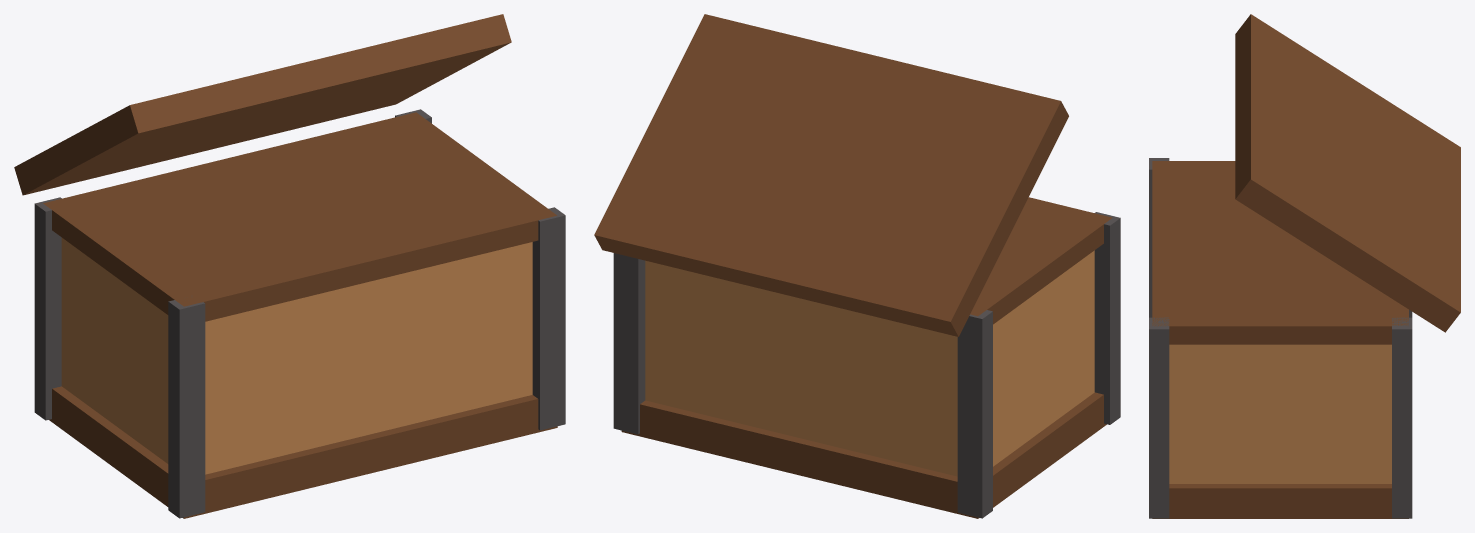
The model's file is shipping_bin.glb.
3 renders of one model, left to right at view 1: azimuth 30°, elevation 25°; view 2: azimuth 150°, elevation 25°; view 3: azimuth 270°, elevation 25°, orthographic. The views are drawn at different scales.
Visible parts, largest first — view 1: Bin-col, Lid; view 2: Bin-col, Lid; view 3: Bin-col, Lid.
Boxes of the visible parts, x1,y1,x2,y2 form: Bin-col: (34, 109, 565, 518); Lid: (14, 14, 511, 195); Bin-col: (613, 197, 1120, 518); Lid: (594, 14, 1068, 336); Bin-col: (1149, 158, 1412, 518); Lid: (1235, 14, 1460, 332).
Bounding box in the file's own units: 1.2 × 1.11 × 0.9242.
